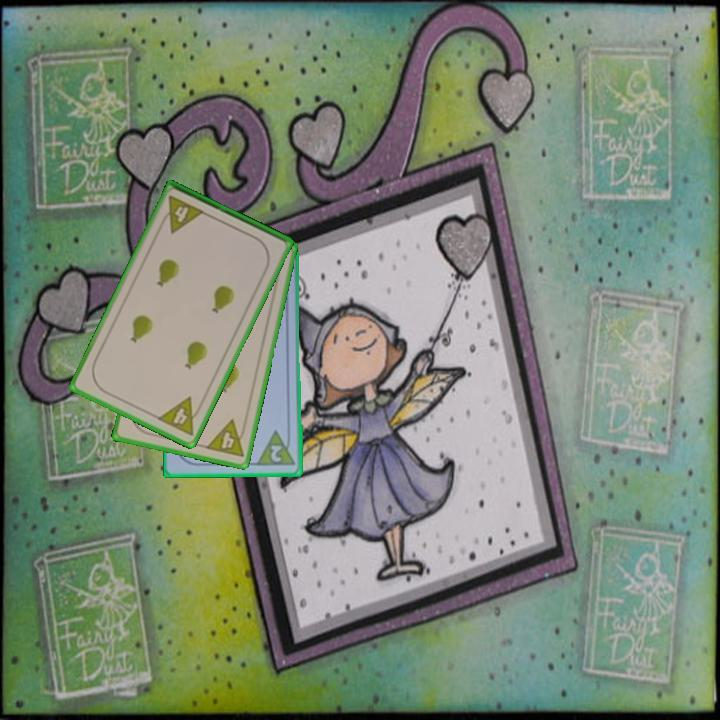2p: (254, 428, 298, 469)
4p: (154, 393, 206, 439), (156, 192, 207, 236), (202, 416, 250, 461)
